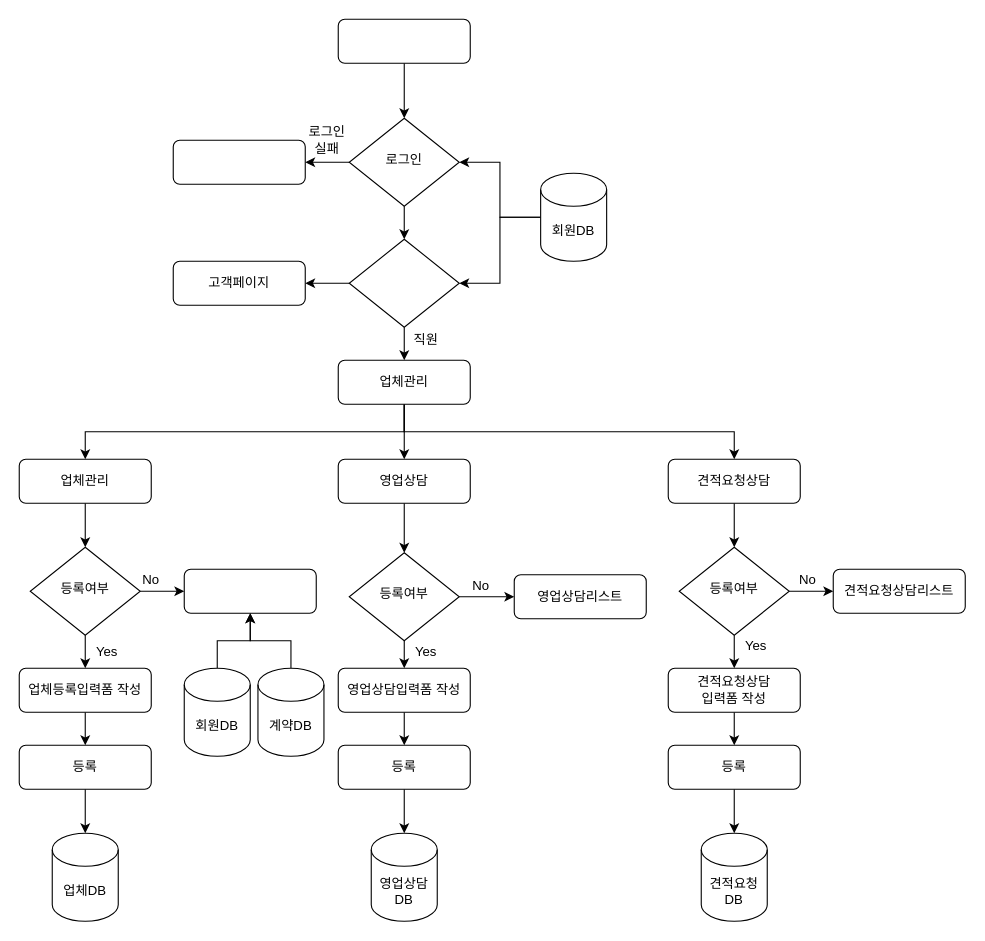
The diagram is 985 pixels wide and 941 high, and some of its shapes have lost their labels. Each missing label, with the centre of its shape:
로그인 실패 알림: the point at 238,161
사이트 접근 (start): the point at 403,40
업체리스트: the point at 249,590
직원 or 고객: the point at 403,282
